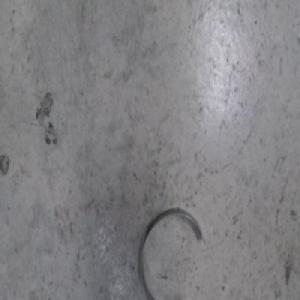AdjustableClamp: (139, 206, 206, 298)
